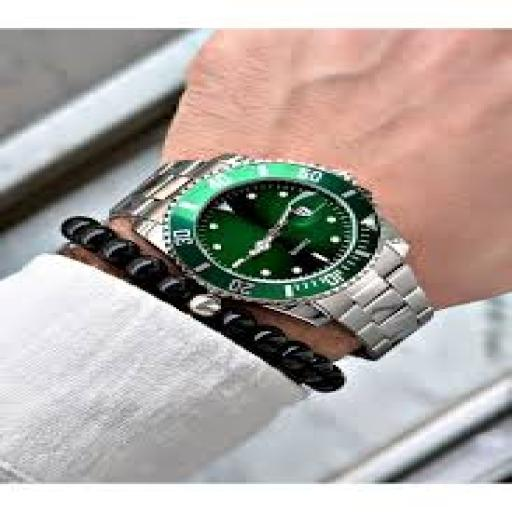KolSaati: (32, 118, 478, 382)
